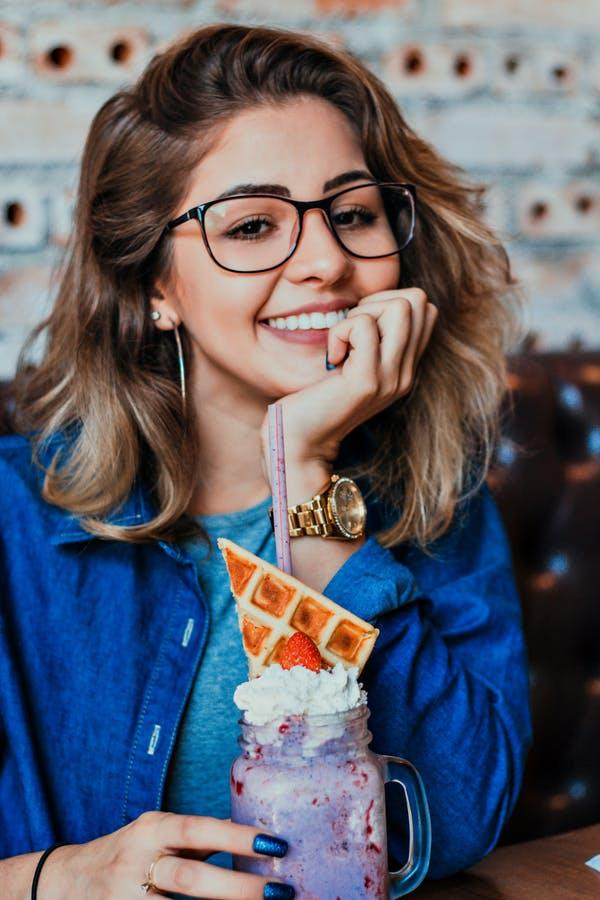eyeglasses: (177, 158, 432, 285)
